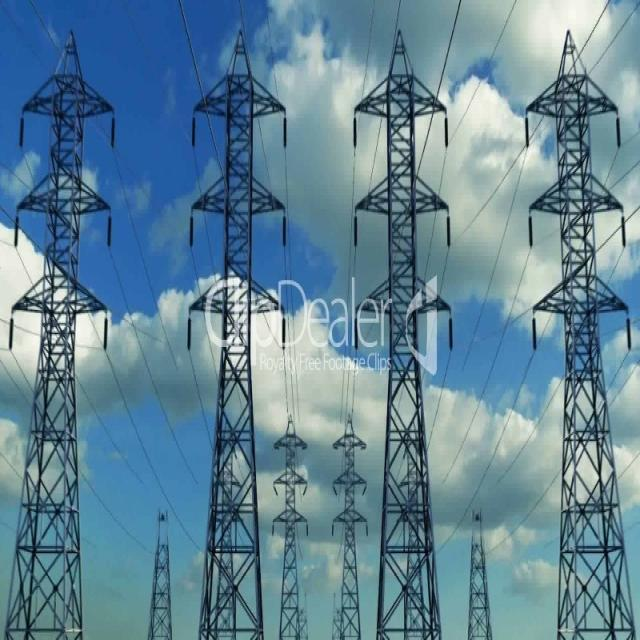non-critical vegetation: (352, 27, 464, 616), (185, 11, 280, 616), (15, 38, 104, 614), (536, 24, 619, 627)
